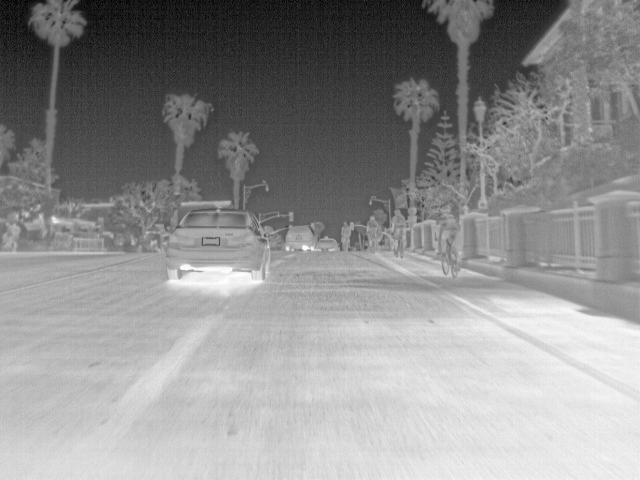car: (163, 208, 272, 284), (284, 224, 318, 251), (315, 236, 341, 254)
person: (436, 209, 462, 266), (389, 207, 405, 250), (365, 214, 382, 248), (337, 221, 354, 254)
